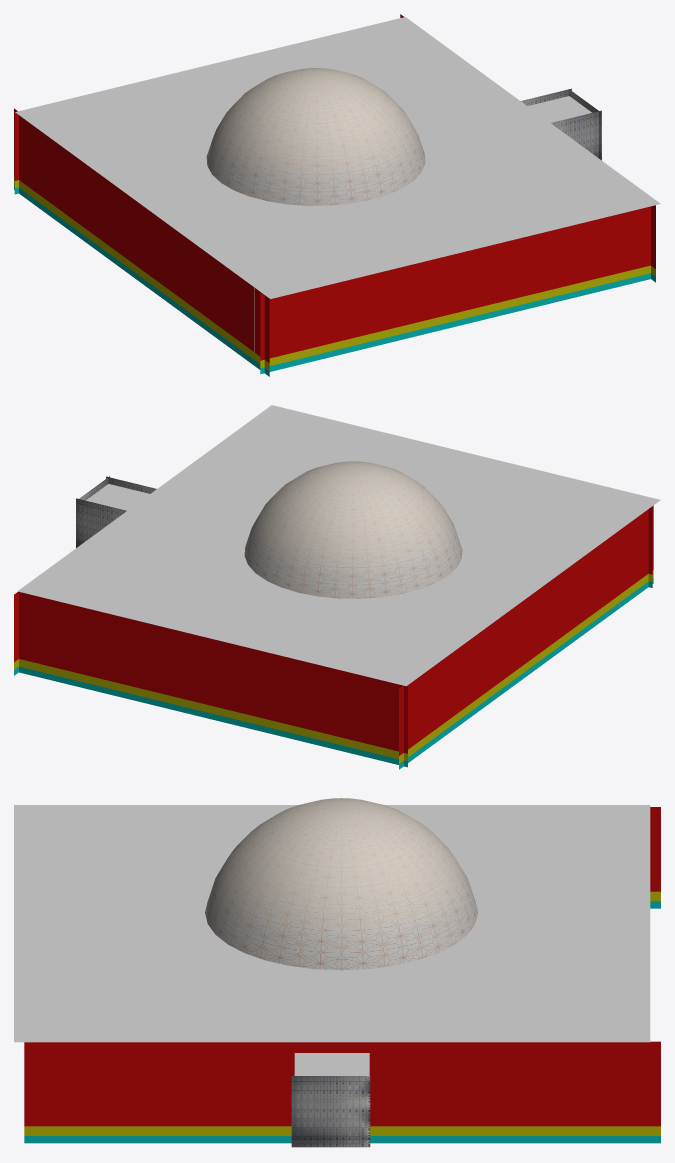
The model's file is casino_final.fbx.
3 views of the same model, one above another, from view 1: azimuth 30°, elevation 25°; view 2: azimuth 150°, elevation 25°; view 3: azimuth 270°, elevation 25° (orthographic). The views are drawn at different scales.
Visible parts, largest first — view 1: Techo_marmol.007, pared madera, Sphere.001, pared madera.001, pared madera.002, pared madera.003, Plane.003, Plane.001; view 2: Techo_marmol.007, pared madera.015, Sphere.001, pared madera.001, pared madera.002, pared madera.003, Plane.007, Plane.001; view 3: Techo_marmol.007, pared madera.004, Sphere.001, pared madera.005, pared madera.006, Plane.004, Plane.001, pared madera.003.
Part boxes in pixels (left/top/right/bottom): Techo_marmol.007: left=15, top=17, right=660, bottom=298; pared madera: left=260, top=206, right=650, bottom=374; Sphere.001: left=206, top=68, right=425, bottom=205; pared madera.001: left=36, top=128, right=246, bottom=359; pared madera.002: left=247, top=282, right=269, bottom=376; pared madera.003: left=14, top=108, right=36, bottom=205; Plane.003: left=551, top=110, right=601, bottom=160; Plane.001: left=528, top=96, right=591, bottom=122; Techo_marmol.007: left=17, top=405, right=660, bottom=686; pared madera.015: left=19, top=592, right=407, bottom=767; Sphere.001: left=244, top=461, right=462, bottom=598; pared madera.001: left=421, top=522, right=630, bottom=753; pared madera.002: left=631, top=505, right=653, bottom=599; pared madera.003: left=399, top=676, right=421, bottom=769; Plane.007: left=76, top=498, right=126, bottom=547; Plane.001: left=86, top=484, right=149, bottom=510; Techo_marmol.007: left=14, top=805, right=650, bottom=1042; pared madera.004: left=80, top=1042, right=604, bottom=1143; Sphere.001: left=205, top=798, right=477, bottom=970; pared madera.005: left=604, top=1041, right=660, bottom=1143; pared madera.006: left=24, top=1042, right=80, bottom=1143; Plane.004: left=291, top=1076, right=370, bottom=1147; Plane.001: left=294, top=1053, right=369, bottom=1075; pared madera.003: left=650, top=807, right=660, bottom=908.
Size of the model in its own units: 6839 by 2513 by 6913.
